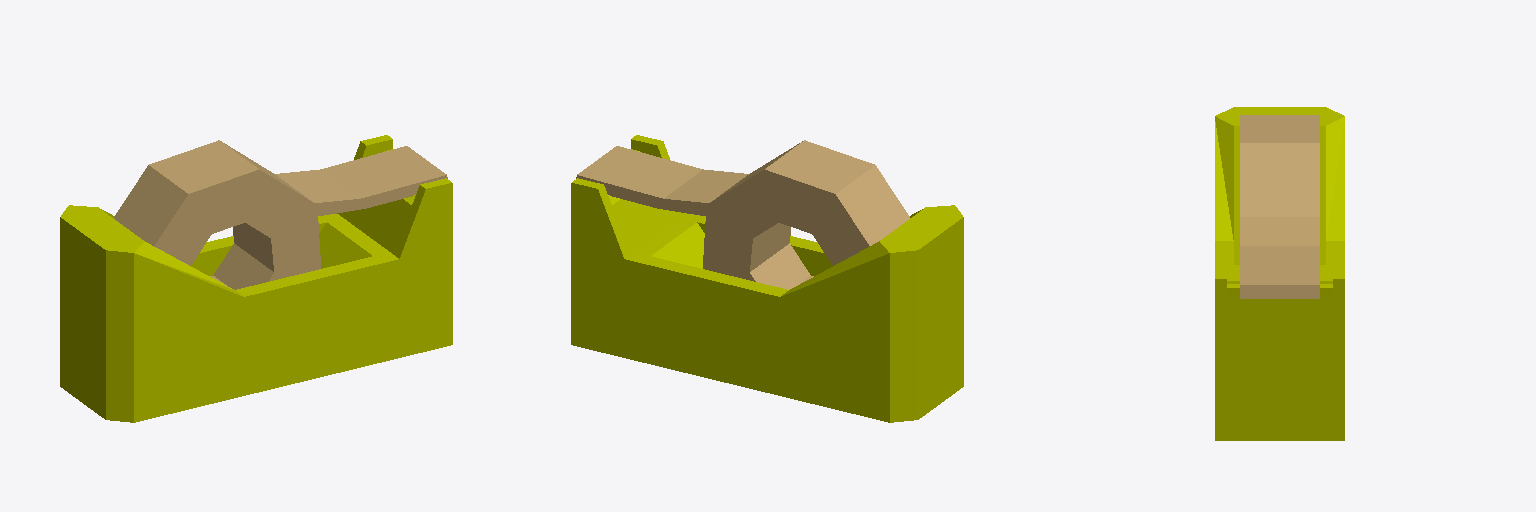
The model's file is Cellotape.obj.
3 renders of one model, left to right at view 1: azimuth 30°, elevation 25°; view 2: azimuth 150°, elevation 25°; view 3: azimuth 270°, elevation 25°, orthographic.
Visible parts, largest first — view 1: Cellotape; view 2: Cellotape; view 3: Cellotape.
Boxes of the visible parts, box(x1,y1,x2,y2) form: Cellotape: box(60, 135, 452, 422); Cellotape: box(571, 135, 963, 422); Cellotape: box(1215, 107, 1344, 440).
Bounding box in the file's own units: 0.2015 × 0.1171 × 0.0659.